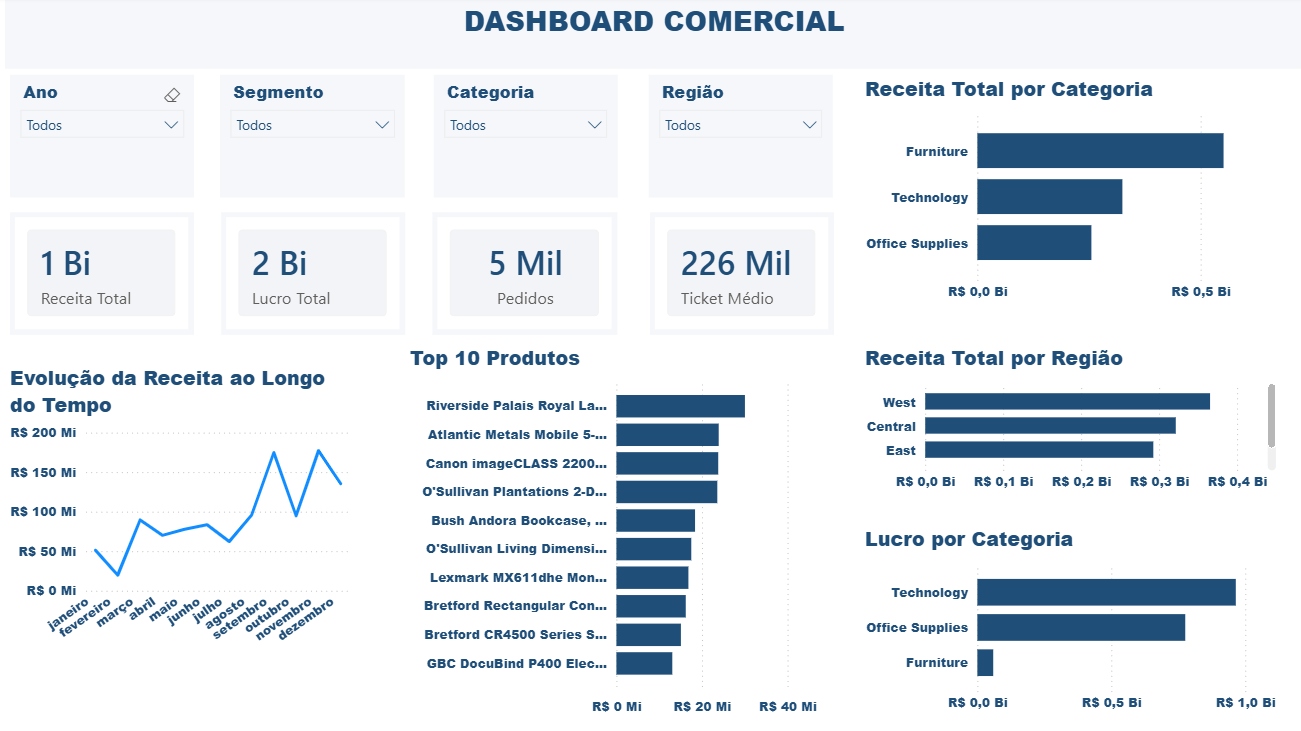

Layout of this report page (visuals, bound fields, positions):
{"tool":"powerbi","page":{"name":"Página 1","canvas":[1280,720],"ordinal":0},"visuals":[{"type":"textbox","box":[9.8,0,1270.5,70.9],"z":0},{"type":"slicer","fields":{"Values":["Sample__Superstore.Ano"]},"box":[14.7,77,180,120],"z":1000},{"type":"slicer","fields":{"Values":["Sample__Superstore.Segmento"]},"box":[220.1,77,181,119.8],"z":3000},{"type":"lineChart","title":"Evolução da Receita ao Longo do Tempo","fields":{"Y":["Medidas.Receita Total"],"Category":["Sample__Superstore.Data do Pedido.Variation.Hierarquia de datas.Mês"]},"box":[9.8,359.5,342.4,293.5],"z":4007},{"type":"cardVisual","fields":{"Data":["Medidas.Ticket Médio"]},"box":[640.8,211.6,179.8,119.8],"z":4507},{"type":"cardVisual","fields":{"Data":["Medidas.Lucro Total"]},"box":[221.3,211.6,179.8,119.8],"z":5007},{"type":"cardVisual","title":"Receita Total","fields":{"Data":["Medidas.Receita Total"]},"box":[14.7,211.6,179.8,119.8],"z":5507},{"type":"cardVisual","fields":{"Data":["Medidas.Pedidos"]},"box":[428,211.6,181,119.8],"z":6007},{"type":"slicer","fields":{"Values":["Sample__Superstore.Categoria"]},"box":[429.2,77,179.8,119.8],"z":6008},{"type":"slicer","fields":{"Values":["Sample__Superstore.Região"]},"box":[639.5,77,179.8,119.8],"z":6009},{"type":"clusteredBarChart","fields":{"Category":["Sample__Superstore.Categoria"],"Y":["Medidas.Receita Total"]},"box":[846.2,77,412.1,232.3],"z":6010},{"type":"clusteredBarChart","title":"Top 10 Produtos","fields":{"Category":["Sample__Superstore.Produto"],"Y":["Medidas.Receita Total"]},"box":[401.1,339.9,408.4,371.7],"z":6011},{"type":"clusteredBarChart","fields":{"Y":["Medidas.Receita Total"],"Category":["Sample__Superstore.Região"]},"box":[846.2,339.9,412.1,155.3],"z":6012},{"type":"clusteredBarChart","title":" Lucro por Categoria","fields":{"Y":["Sum(Sample__Superstore.Lucro)"],"Category":["Sample__Superstore.Categoria"]},"box":[846.2,517.3,412.1,194.4],"z":6013}]}

Visuals, with their boxes in screenshot pixels (x1, y1, x2, y2), scaled from the page's 1280x720 canvas onto the 1301x731 screenshot:
textbox: bbox=(10, 0, 1300, 72)
slicer - Sample__Superstore.Ano: bbox=(15, 78, 198, 200)
slicer - Sample__Superstore.Segmento: bbox=(224, 78, 408, 200)
"Evolução da Receita ao Longo do Tempo" lineChart: bbox=(10, 365, 358, 663)
cardVisual - Medidas.Ticket Médio: bbox=(651, 215, 834, 336)
cardVisual - Medidas.Lucro Total: bbox=(225, 215, 408, 336)
"Receita Total" cardVisual: bbox=(15, 215, 198, 336)
cardVisual - Medidas.Pedidos: bbox=(435, 215, 619, 336)
slicer - Sample__Superstore.Categoria: bbox=(436, 78, 619, 200)
slicer - Sample__Superstore.Região: bbox=(650, 78, 833, 200)
clusteredBarChart - Sample__Superstore.Categoria x Medidas.Receita Total: bbox=(860, 78, 1279, 314)
"Top 10 Produtos" clusteredBarChart: bbox=(408, 345, 823, 722)
clusteredBarChart - Medidas.Receita Total x Sample__Superstore.Região: bbox=(860, 345, 1279, 503)
" Lucro por Categoria" clusteredBarChart: bbox=(860, 525, 1279, 723)
